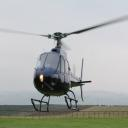helicopter: (2, 28, 119, 113)
